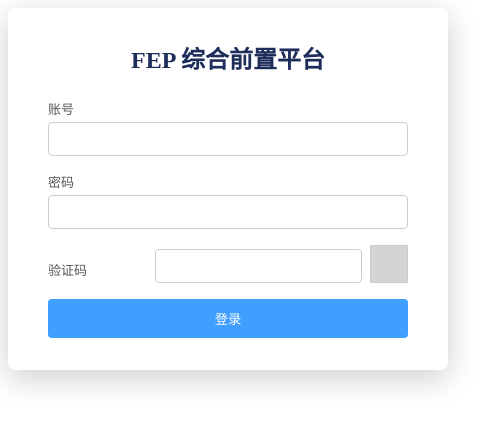
Test: LoginPage validation › rejects weak password (only lowercase letters)
This screenshot has width=478, height=439.
Type "alicex" into the field named "account" at (228, 139), box [48,122,408,156]
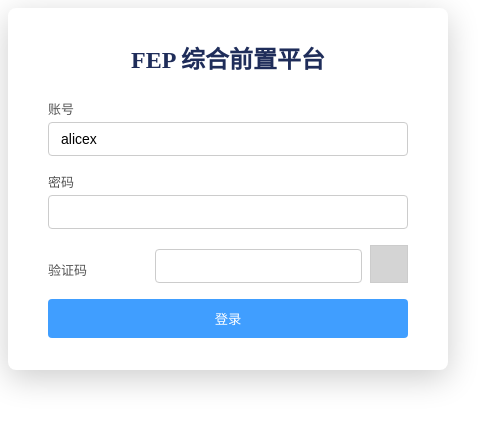
Type "abcdefgh" into the password field named "password" at (228, 212), box [48,195,408,229]
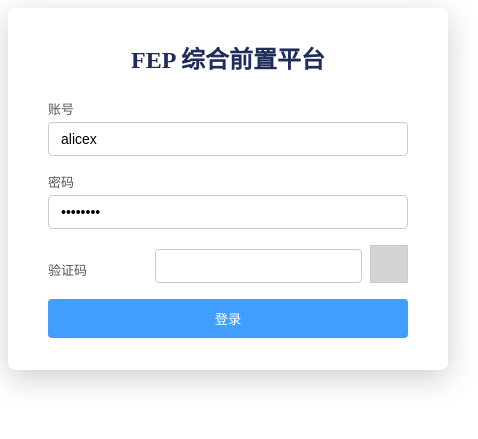
Type "1234" into the field named "captchaCode" at (258, 266), box [155,249,362,283]
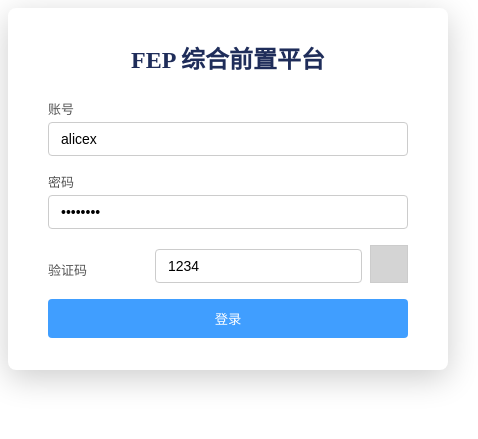
Submit the form, box [48,99,408,338]
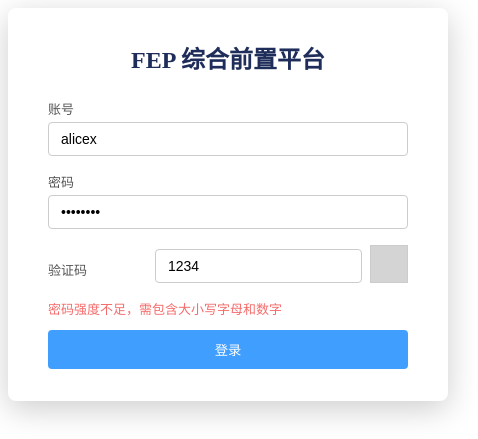
Expected: the text "密码强度不足" is shown, [48,302,282,317]
